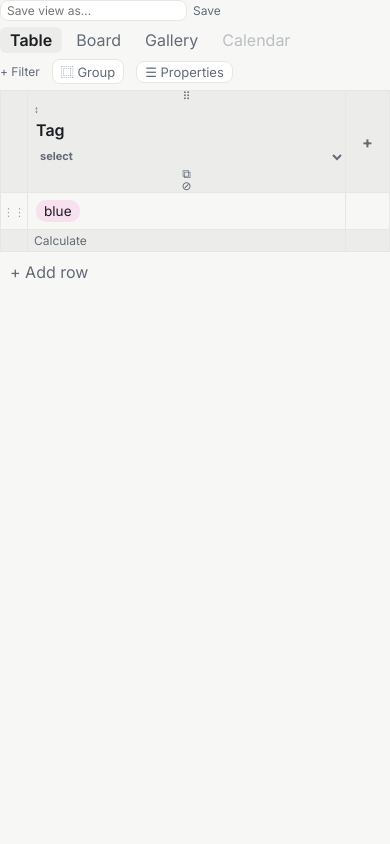
Scenario: TableBlock › renders a select cell showing its value, with options in a popover
The image size is (390, 844).
Click the button with aria-label "Cell 1,1".
click(58, 211)  # box x1=28 y1=193 x2=345 y2=229
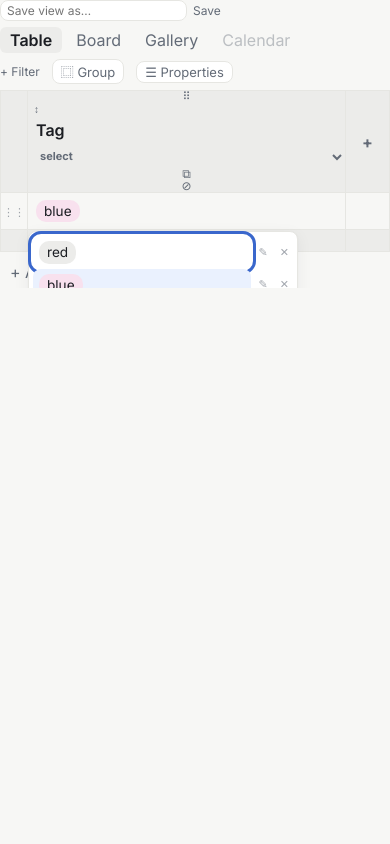
Now the button "red" is shown, box x1=33 y1=236 x2=251 y2=269
